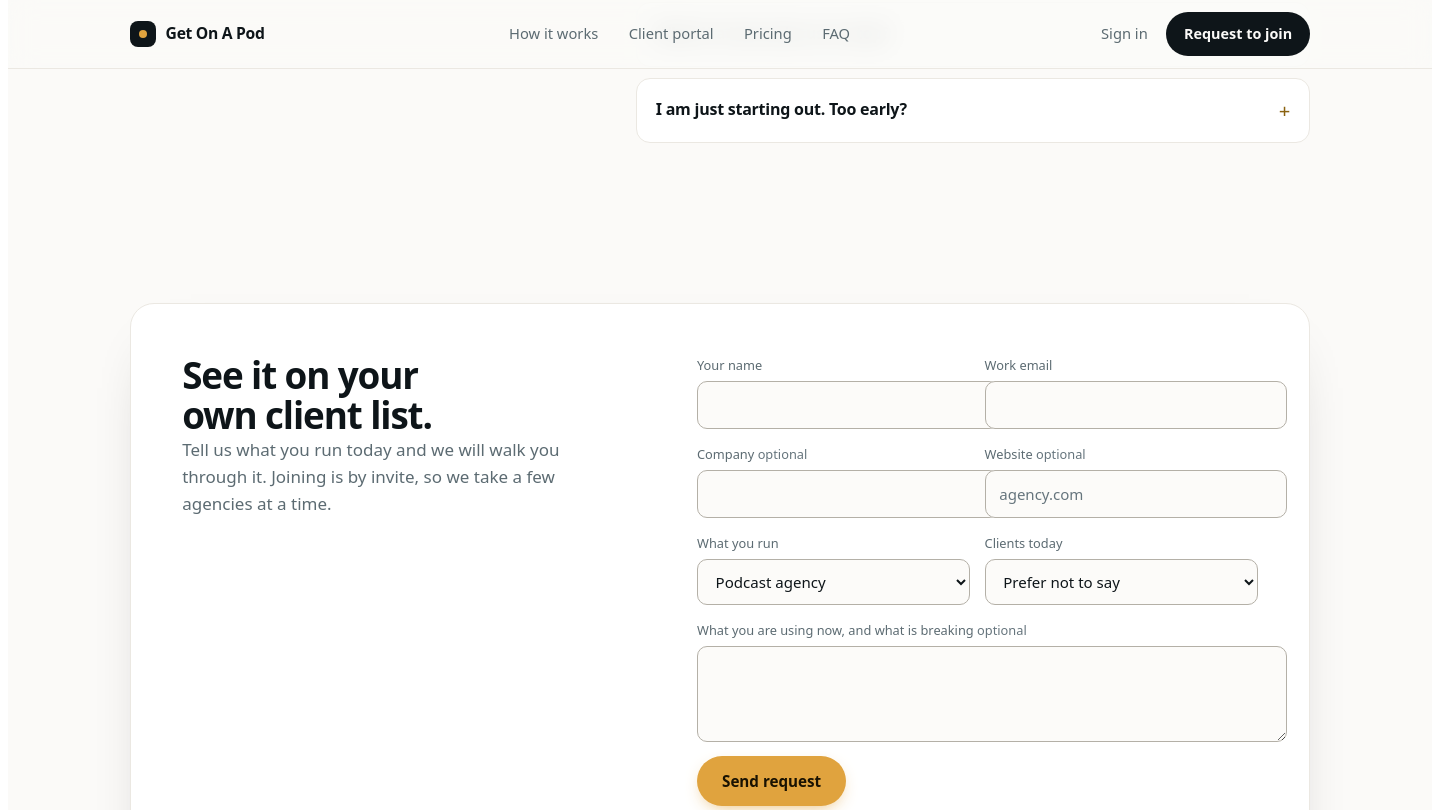
Test: AgencyLanding › shows why the request failed and keeps what was typed
The image size is (1440, 810).
(page scrolled)
Type "Dana Reyes" into the field labelled "Your name".
click(848, 405); type("Dana Reyes")  # box [697, 381, 999, 429]
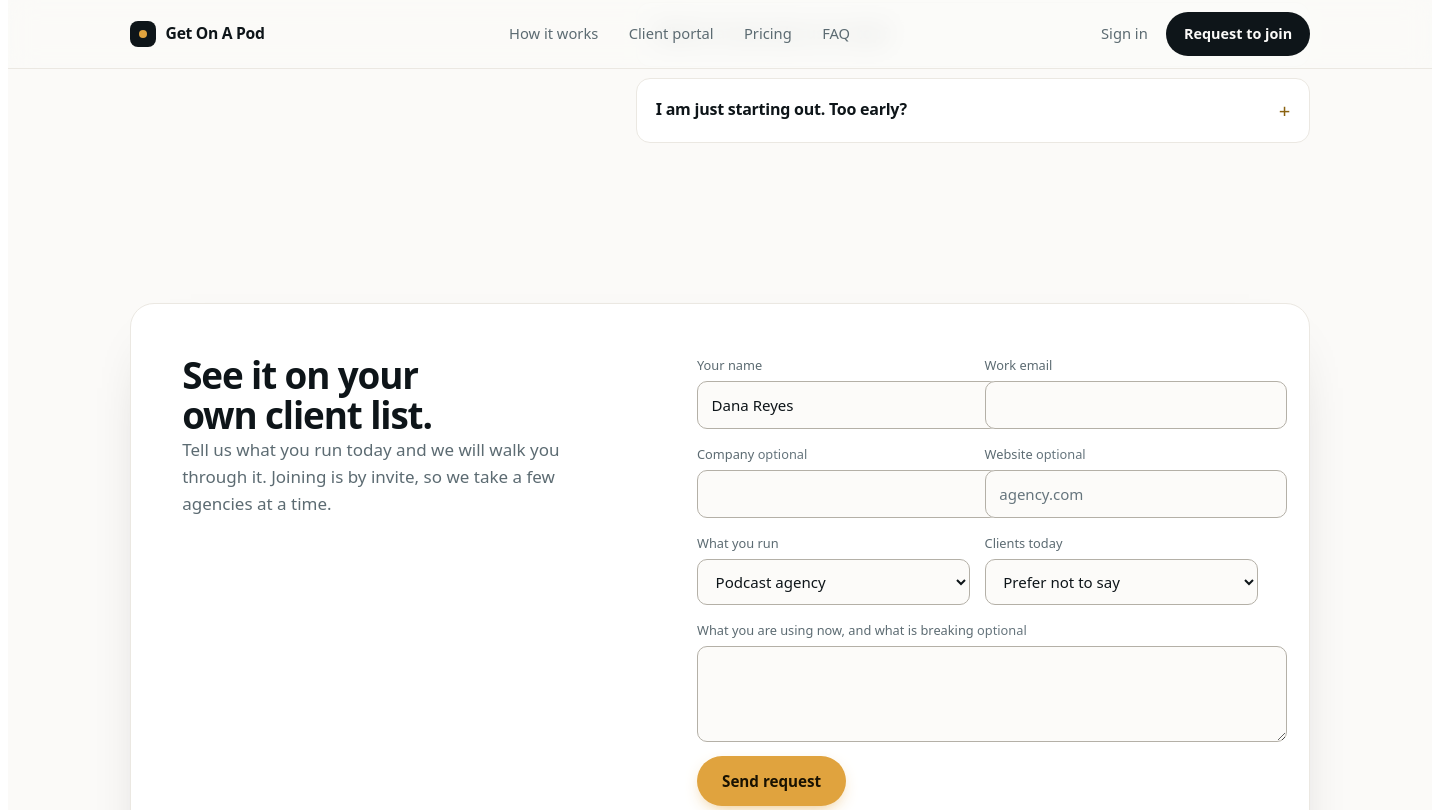
Type "dana@example.com" into the field labelled "Work email".
click(1136, 405); type("dana@example.com")  # box [985, 381, 1287, 429]
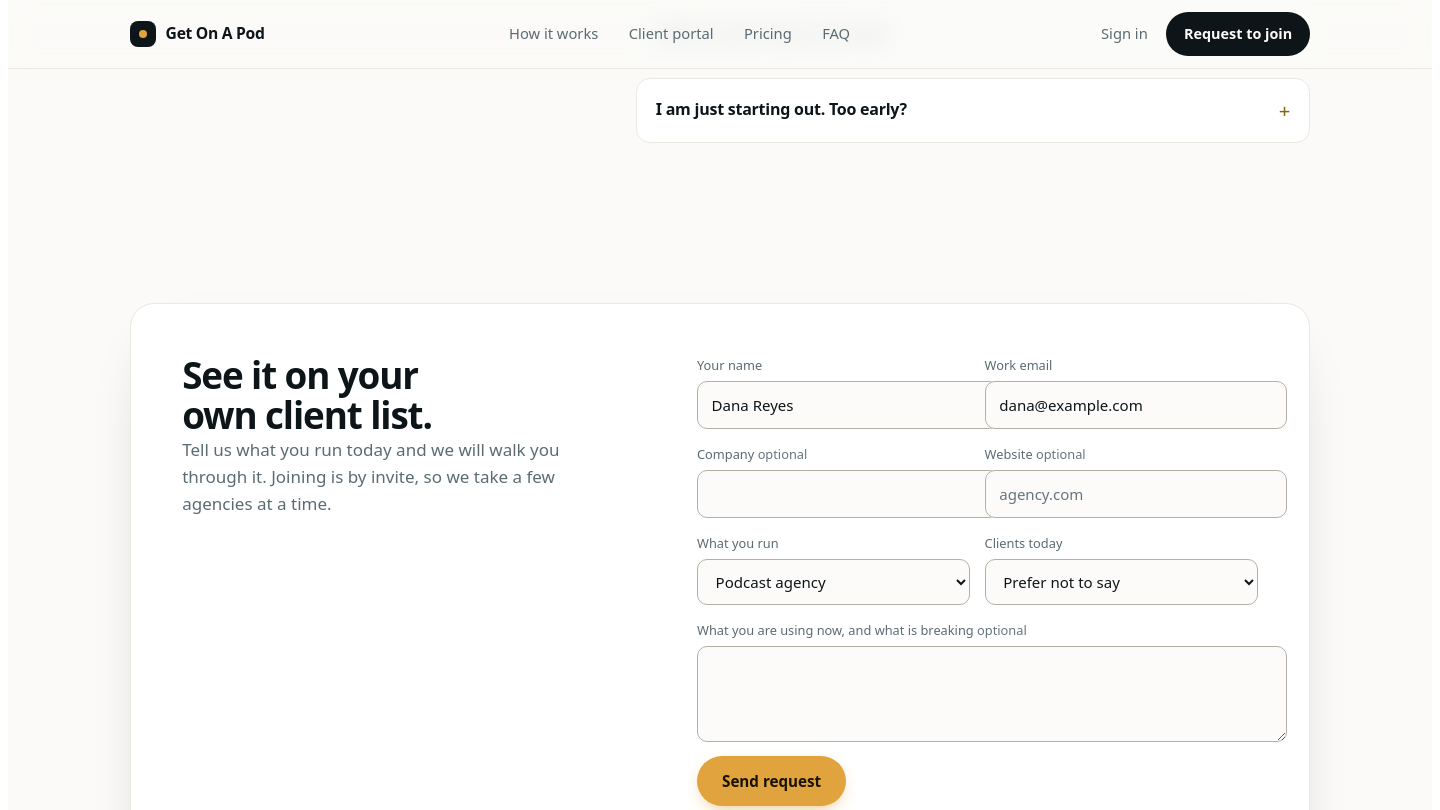
Click the button "Send request".
click(772, 781)  # box [697, 756, 846, 806]
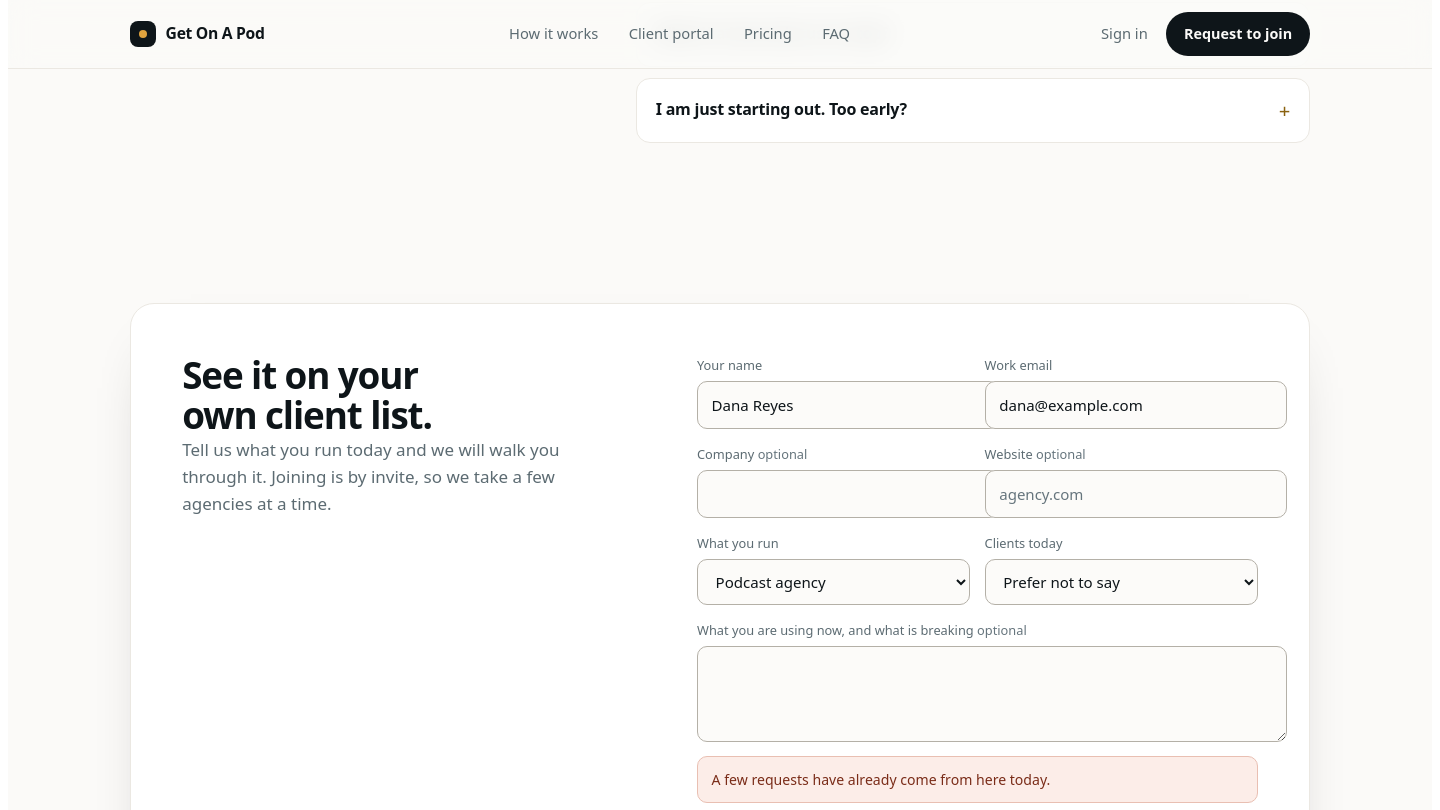
expect the message shows "already come from here today": met, box [712, 770, 1050, 789]
